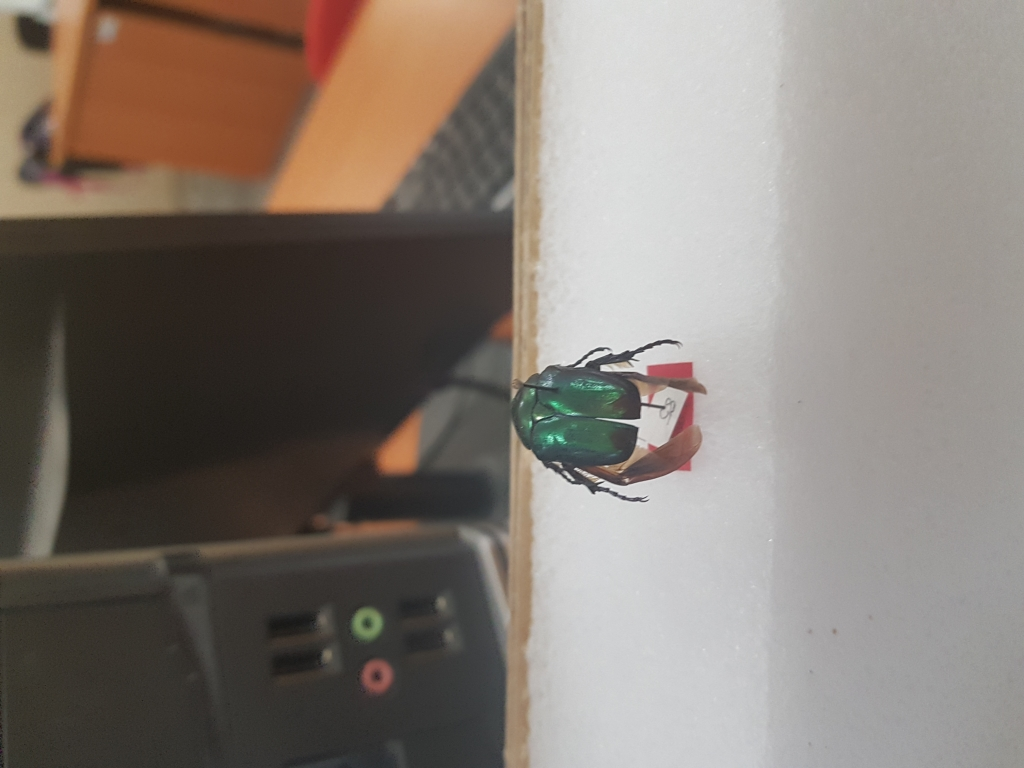Protaetia_besucheti: (505, 332, 726, 503)
